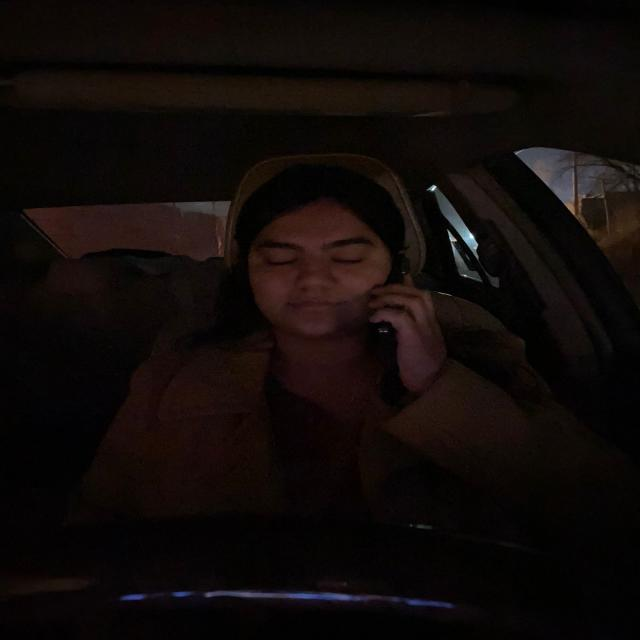drowsy: (231, 153, 423, 356)
